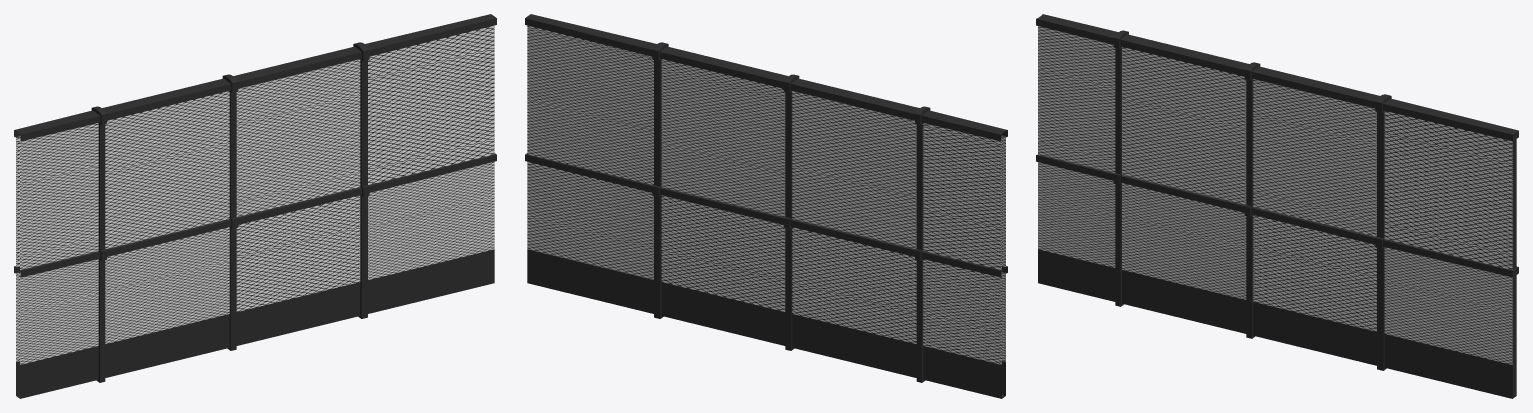
The model's file is barr3.fbx.
3 views of the same model, side by side, from view 1: azimuth 30°, elevation 25°; view 2: azimuth 150°, elevation 25°; view 3: azimuth 330°, elevation 25° (orthographic).
Parts seen in each view (by area): view 1: pCube12; view 2: pCube12; view 3: pCube12.
Part boxes in pixels (x1,y1,x2,y2): pCube12: [14, 14, 496, 398]; pCube12: [525, 14, 1007, 398]; pCube12: [1036, 14, 1518, 398].
Bounding box in the file's own units: 2747 × 1491 × 98.38.
Materials: 2 (1 with a texture image).
